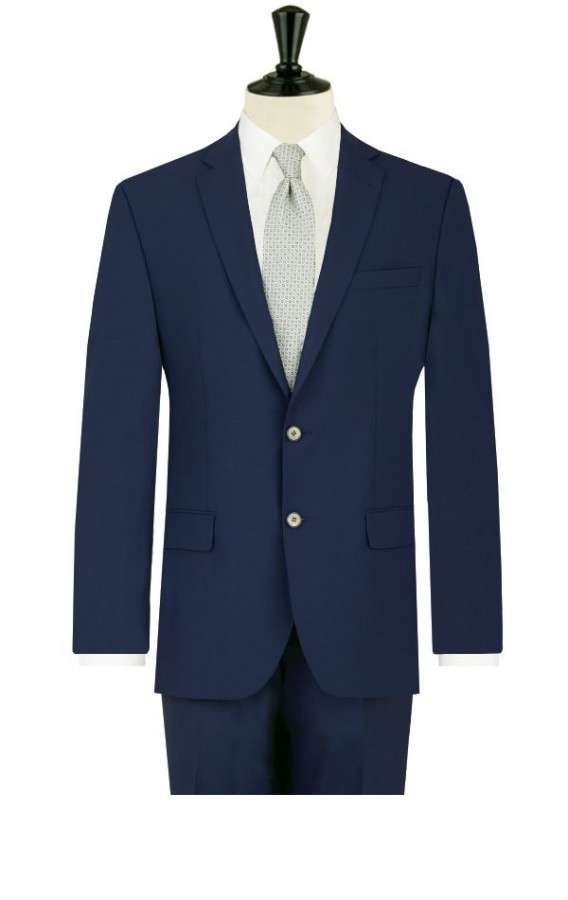F_M_suit jacket: (61, 132, 509, 681)
F_tie: (252, 138, 323, 371)
